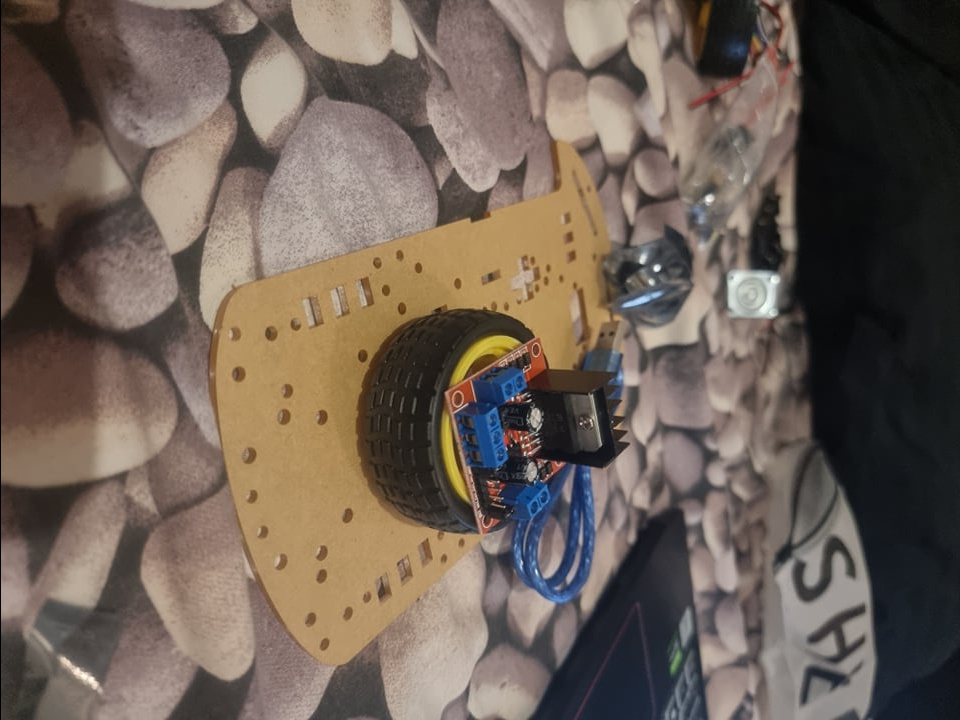MOTOR: (441, 338, 630, 535)
